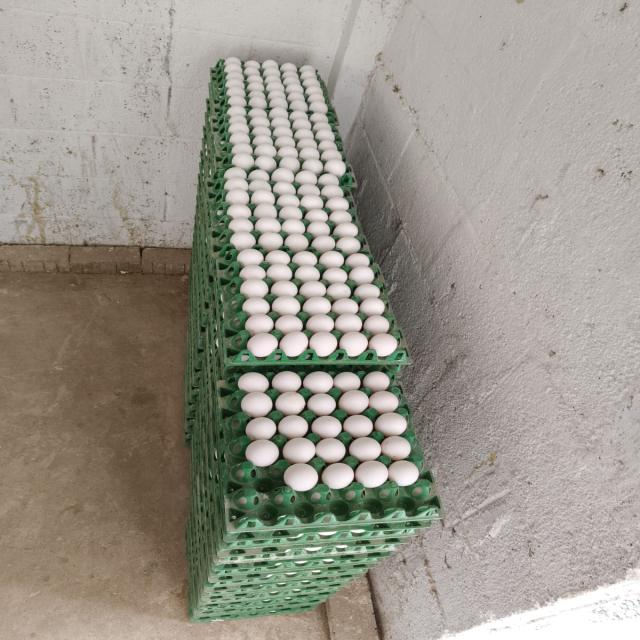egg_tray: (192, 374, 427, 561), (190, 411, 411, 574), (191, 408, 420, 562), (219, 371, 439, 528), (212, 197, 407, 364), (211, 232, 407, 365), (221, 370, 423, 492), (211, 248, 407, 366), (215, 248, 408, 367), (205, 70, 353, 185), (201, 484, 418, 562), (187, 514, 390, 591), (196, 507, 409, 580), (199, 507, 405, 581), (187, 512, 394, 585), (191, 501, 366, 584), (204, 167, 366, 255), (204, 137, 354, 232), (205, 167, 365, 254), (187, 524, 389, 592), (206, 170, 366, 255), (187, 526, 374, 596), (205, 506, 417, 564), (203, 167, 358, 246), (205, 180, 368, 255), (205, 116, 354, 196), (208, 115, 354, 196), (204, 110, 355, 188), (215, 518, 427, 572), (205, 114, 355, 190), (204, 113, 355, 188), (205, 107, 351, 183), (204, 138, 354, 204), (195, 537, 395, 584), (188, 553, 366, 605), (204, 526, 412, 568), (204, 104, 343, 166), (188, 553, 374, 599), (207, 63, 337, 124), (204, 149, 353, 202), (209, 60, 337, 121), (184, 192, 213, 443), (189, 569, 357, 612), (209, 60, 334, 114), (214, 529, 418, 562), (188, 334, 218, 555), (214, 531, 413, 563), (205, 98, 337, 146), (206, 553, 390, 585), (203, 558, 379, 591), (214, 141, 346, 185), (193, 570, 366, 603), (189, 380, 221, 554), (190, 585, 341, 621), (198, 567, 366, 598), (197, 572, 363, 603), (198, 572, 363, 603), (199, 571, 363, 602), (199, 571, 364, 601), (194, 576, 355, 605), (187, 412, 215, 571), (226, 198, 349, 234), (198, 584, 344, 614), (190, 590, 326, 622), (200, 584, 344, 614), (201, 577, 354, 605), (190, 370, 216, 518), (184, 287, 212, 419), (196, 308, 221, 449), (184, 295, 214, 412), (183, 291, 206, 443), (189, 182, 213, 326), (187, 218, 212, 353), (190, 598, 326, 622), (187, 244, 212, 368), (189, 188, 211, 328), (190, 599, 323, 622), (189, 601, 316, 623), (183, 311, 204, 444), (190, 602, 319, 623), (189, 214, 212, 328), (189, 238, 214, 340), (188, 270, 214, 368), (190, 603, 317, 623), (189, 603, 316, 623), (198, 126, 233, 198), (189, 188, 212, 295), (189, 230, 213, 332), (188, 258, 214, 352), (190, 604, 315, 623), (190, 180, 210, 298), (186, 508, 214, 590), (186, 292, 213, 376), (188, 269, 214, 356), (203, 304, 223, 411), (220, 116, 322, 136), (198, 99, 220, 191), (189, 198, 209, 296), (195, 137, 217, 223), (194, 152, 217, 233), (194, 152, 214, 240), (188, 296, 209, 374), (185, 318, 204, 402), (190, 214, 209, 294), (183, 354, 199, 444), (199, 126, 219, 192), (184, 357, 201, 425), (198, 126, 215, 191), (263, 118, 323, 135), (222, 116, 271, 136), (194, 178, 208, 244), (183, 410, 194, 446), (296, 182, 325, 195), (183, 416, 194, 446), (294, 135, 339, 142), (332, 174, 353, 188), (191, 450, 207, 467), (255, 121, 285, 129), (204, 511, 220, 525), (308, 174, 334, 182), (218, 234, 234, 246), (323, 152, 343, 161), (429, 496, 438, 515), (188, 523, 196, 543), (225, 168, 245, 176), (254, 196, 274, 204), (223, 318, 237, 329), (201, 278, 210, 294), (286, 514, 299, 525), (238, 148, 258, 155), (303, 120, 322, 127), (206, 178, 217, 190), (229, 196, 245, 204), (278, 140, 293, 148), (301, 186, 316, 194), (219, 116, 228, 129), (301, 186, 315, 194), (258, 162, 272, 170), (230, 123, 252, 128), (302, 186, 315, 194), (422, 471, 432, 481), (313, 318, 322, 329), (215, 509, 226, 518), (369, 549, 381, 557), (274, 188, 287, 195), (274, 188, 289, 194), (316, 240, 327, 248), (277, 152, 294, 157), (196, 334, 202, 348), (289, 120, 301, 127), (247, 301, 263, 306), (250, 318, 260, 326), (339, 223, 355, 228), (322, 308, 335, 314), (230, 122, 243, 128), (301, 69, 314, 75), (282, 210, 291, 218), (251, 174, 265, 179), (207, 349, 212, 363), (234, 236, 244, 243), (229, 130, 246, 134), (190, 298, 199, 305), (302, 196, 317, 200), (342, 241, 354, 246), (287, 516, 299, 521), (251, 318, 259, 325), (218, 468, 225, 476), (290, 166, 301, 171), (248, 88, 259, 93), (204, 533, 210, 542), (308, 155, 321, 159), (321, 147, 334, 151), (325, 188, 335, 193), (323, 494, 330, 501), (193, 375, 200, 382), (335, 141, 341, 149), (234, 139, 246, 143), (231, 116, 243, 120), (191, 271, 196, 280), (316, 129, 325, 134), (206, 181, 212, 188), (245, 336, 252, 342), (194, 342, 201, 348), (251, 174, 259, 179), (274, 188, 282, 193), (231, 484, 237, 490), (319, 182, 324, 189), (292, 320, 299, 325), (347, 576, 354, 581), (343, 227, 348, 234), (316, 130, 323, 135), (342, 240, 353, 243), (197, 202, 201, 210), (333, 151, 341, 155), (273, 170, 278, 176), (279, 521, 285, 526), (191, 570, 196, 576), (306, 202, 313, 206), (193, 246, 197, 253), (264, 228, 271, 232), (251, 176, 260, 179), (263, 61, 272, 64), (247, 118, 256, 121), (365, 512, 370, 517), (319, 183, 324, 188), (308, 130, 313, 135), (332, 502, 338, 506), (292, 113, 300, 116), (265, 309, 273, 312), (224, 216, 228, 222), (196, 576, 204, 579), (197, 202, 200, 210), (207, 182, 211, 188), (223, 143, 230, 146), (260, 473, 265, 477), (229, 432, 233, 437), (193, 566, 198, 570), (207, 183, 211, 188), (217, 148, 221, 153), (214, 464, 219, 468), (256, 136, 261, 140), (192, 274, 196, 279), (329, 105, 332, 111), (253, 331, 262, 333), (308, 185, 314, 188), (283, 463, 287, 467), (190, 553, 194, 557), (327, 189, 335, 191), (297, 142, 301, 146), (239, 244, 244, 247), (238, 498, 241, 503), (322, 151, 327, 154), (245, 86, 248, 91), (254, 332, 268, 333), (326, 189, 333, 191), (243, 134, 250, 136), (318, 505, 322, 508), (268, 480, 270, 486), (263, 360, 269, 362), (231, 301, 235, 304), (191, 274, 194, 278), (202, 189, 205, 193), (260, 194, 263, 198), (303, 157, 307, 160), (358, 572, 362, 575), (247, 238, 250, 242), (302, 561, 306, 564), (291, 184, 294, 188), (329, 221, 333, 224), (274, 609, 278, 612), (298, 504, 303, 506), (262, 480, 267, 482), (258, 313, 263, 315), (299, 534, 304, 536), (254, 242, 259, 244), (324, 319, 327, 322), (287, 515, 290, 518), (207, 299, 210, 302), (226, 170, 229, 173), (248, 234, 251, 237), (231, 98, 234, 101), (246, 238, 249, 241), (188, 530, 189, 539), (275, 471, 277, 475), (318, 202, 322, 204), (234, 118, 238, 120), (274, 128, 278, 130), (298, 180, 302, 182), (262, 332, 269, 333), (295, 160, 298, 162), (235, 249, 237, 252), (282, 601, 285, 603), (210, 576, 212, 579), (207, 177, 209, 180), (199, 291, 201, 294), (212, 291, 214, 294), (283, 187, 286, 189), (310, 130, 312, 133), (255, 202, 261, 203), (284, 198, 287, 200), (229, 157, 232, 159), (319, 176, 322, 178), (211, 250, 213, 253), (302, 146, 305, 148), (297, 187, 299, 190), (270, 149, 272, 152), (236, 523, 238, 526), (233, 148, 236, 150), (382, 523, 385, 525), (242, 154, 244, 157), (194, 585, 195, 590), (289, 229, 294, 230), (262, 470, 266, 471), (188, 342, 190, 344), (215, 182, 217, 184), (320, 168, 322, 170), (240, 327, 242, 329), (262, 177, 264, 179), (318, 594, 320, 596), (291, 123, 293, 125), (332, 246, 334, 248), (190, 300, 191, 304), (194, 379, 196, 381), (192, 276, 194, 278), (236, 176, 240, 177), (318, 241, 322, 242), (335, 134, 337, 136), (402, 512, 403, 515), (198, 197, 199, 200), (216, 247, 219, 248), (312, 142, 315, 143), (292, 130, 293, 133), (249, 119, 252, 120), (283, 145, 286, 146), (243, 180, 246, 181), (229, 170, 232, 171), (232, 233, 235, 234), (334, 155, 337, 156), (198, 196, 199, 199), (220, 563, 221, 566), (252, 221, 255, 222), (289, 180, 292, 181), (212, 89, 215, 90), (279, 585, 282, 586), (269, 360, 271, 361), (331, 304, 332, 306), (224, 222, 226, 223), (297, 187, 298, 189), (342, 576, 344, 577), (228, 189, 230, 190), (328, 138, 330, 139), (276, 136, 278, 137), (369, 562, 370, 564), (333, 185, 335, 186), (228, 180, 230, 181), (265, 320, 267, 321), (225, 205, 227, 206), (333, 189, 335, 190), (207, 382, 208, 384), (332, 173, 334, 174), (325, 232, 326, 234), (257, 137, 259, 138), (218, 186, 219, 188), (347, 571, 348, 572), (262, 178, 263, 179), (258, 174, 259, 175), (276, 502, 277, 503), (192, 272, 193, 273), (191, 416, 192, 417), (211, 418, 212, 419), (338, 572, 339, 573), (336, 134, 337, 135), (341, 155, 342, 156), (233, 218, 234, 219), (329, 154, 330, 155), (229, 178, 230, 179), (238, 114, 239, 115), (234, 105, 235, 106), (284, 198, 285, 199), (258, 229, 259, 230), (265, 136, 266, 137), (305, 512, 306, 512), (314, 438, 314, 439), (300, 172, 301, 172), (243, 310, 245, 310), (243, 300, 243, 302), (348, 230, 348, 230), (299, 202, 299, 204), (394, 487, 394, 488), (250, 530, 250, 530), (247, 523, 248, 523), (201, 406, 201, 406), (276, 112, 277, 112), (222, 170, 223, 170), (227, 150, 228, 150), (292, 138, 292, 139), (304, 130, 307, 130), (271, 563, 275, 563), (337, 574, 337, 574), (270, 563, 276, 563), (321, 130, 322, 130), (387, 554, 387, 554), (250, 245, 252, 245), (188, 544, 188, 546), (361, 563, 361, 564), (365, 570, 365, 570), (327, 158, 328, 158), (250, 132, 251, 132), (241, 98, 241, 100), (252, 110, 253, 110), (262, 470, 264, 470), (232, 412, 235, 412), (334, 374, 334, 374), (214, 367, 214, 368), (216, 148, 217, 148), (365, 520, 365, 522), (245, 374, 245, 375), (225, 240, 226, 240), (264, 223, 267, 223), (294, 212, 294, 212), (302, 130, 307, 130), (212, 85, 212, 86), (250, 70, 250, 70)
